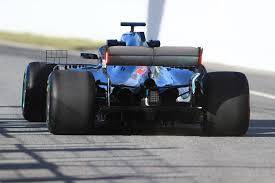f1_car: (16, 18, 259, 141)
